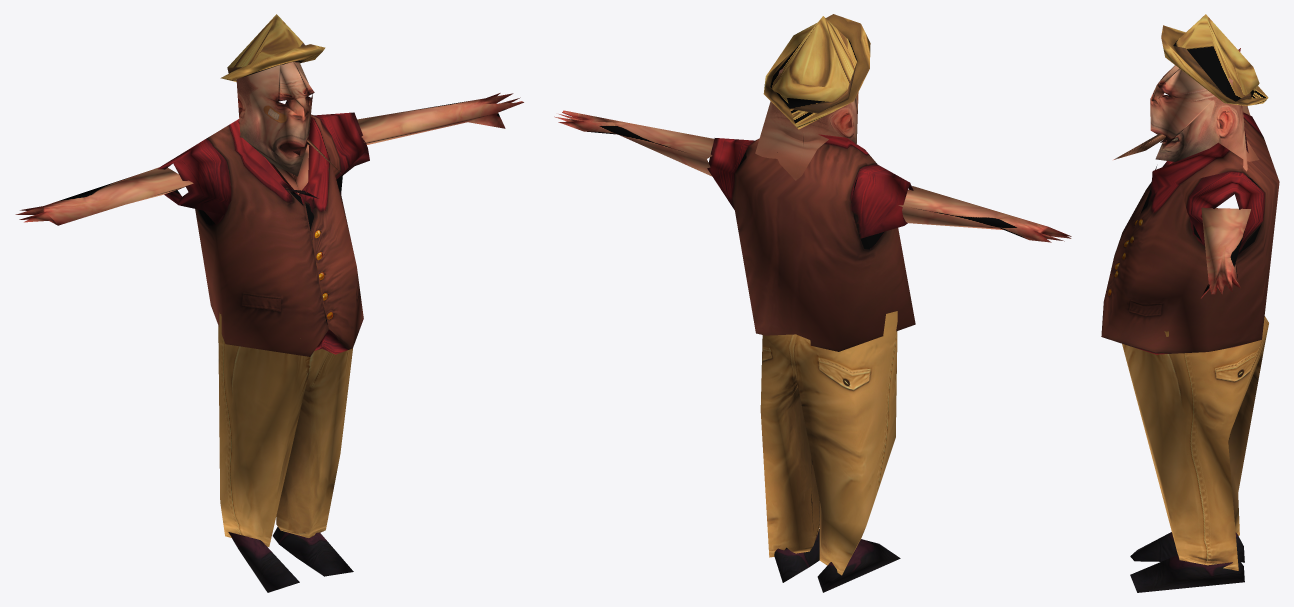
The model's file is Jump_lod4.gltf.
3 renders of one model, left to right at view 1: azimuth 30°, elevation 25°; view 2: azimuth 150°, elevation 25°; view 3: azimuth 270°, elevation 25°, orthographic. The views are drawn at different scales.
Visible parts, largest first — view 1: Jump_mesh; view 2: Jump_mesh; view 3: Jump_mesh.
Part boxes in pixels (x1,y1,x2,y2): Jump_mesh: (15, 14, 523, 592); Jump_mesh: (554, 14, 1071, 592); Jump_mesh: (1101, 14, 1279, 592).
Bounding box in the file's own units: 1.92 × 1.99 × 0.5752.
4 materials, 4 textured.
